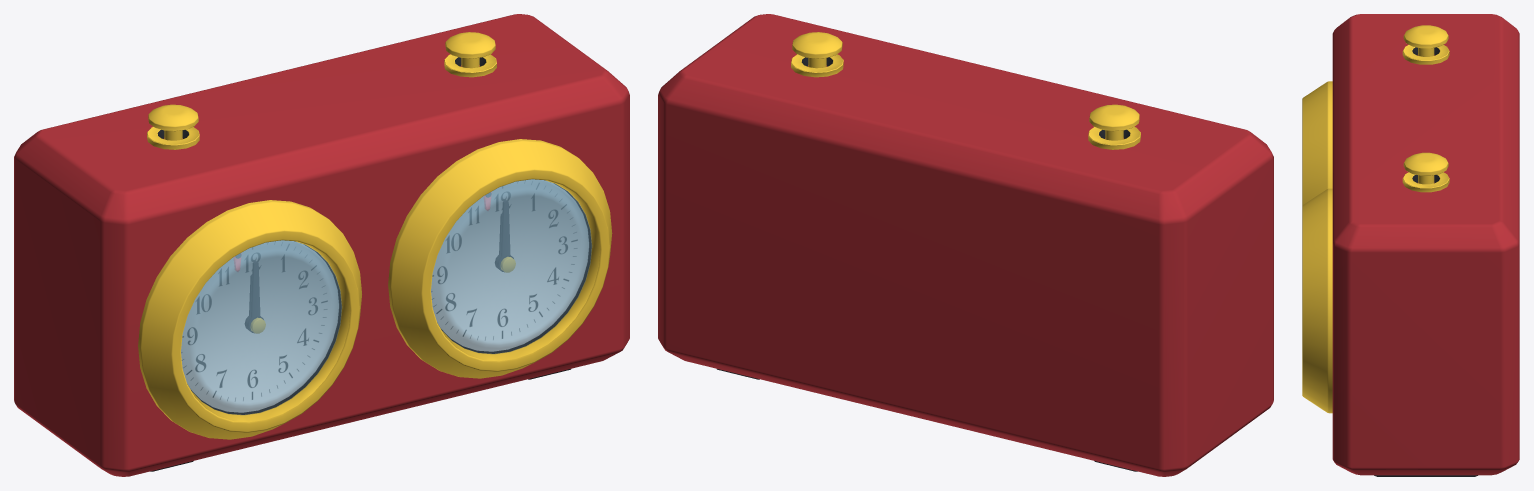
File: xadrez_relogio_pacote.glb
3 renders of one model, left to right at view 1: azimuth 30°, elevation 25°; view 2: azimuth 150°, elevation 25°; view 3: azimuth 270°, elevation 25°, orthographic. The views are drawn at different scales.
Visible parts, largest first — view 1: xadrez_relogio_pacote, botao_1, botao_2; view 2: xadrez_relogio_pacote, botao_1, botao_2; view 3: xadrez_relogio_pacote, botao_2, botao_1.
Boxes of the visible parts, box(x1,y1,x2,y2) form: xadrez_relogio_pacote: box(14, 14, 629, 476); botao_1: box(148, 104, 198, 140); botao_2: box(445, 32, 495, 68); xadrez_relogio_pacote: box(658, 14, 1273, 476); botao_1: box(1089, 104, 1139, 140); botao_2: box(792, 32, 842, 68); xadrez_relogio_pacote: box(1302, 14, 1519, 476); botao_2: box(1403, 152, 1448, 184); botao_1: box(1403, 25, 1448, 56).
Bounding box in the file's own units: 0.1611 × 0.0957 × 0.0652.
Materials: 3 (2 with a texture image).
